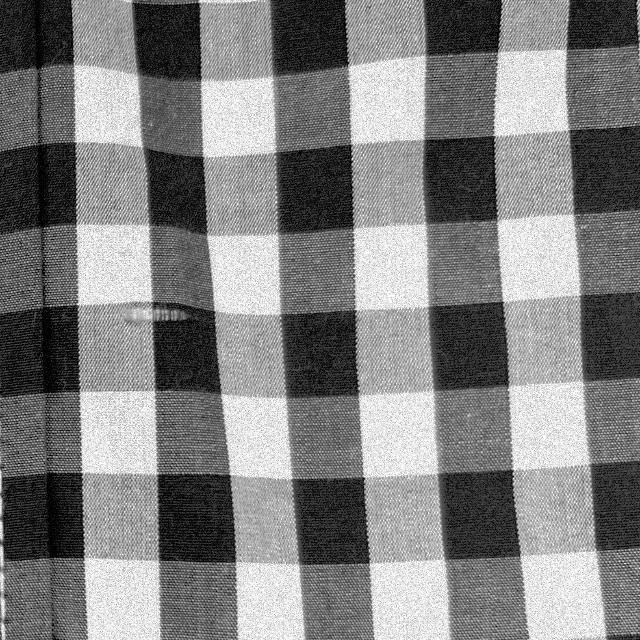Foreign_yarn: (106, 296, 212, 338)
